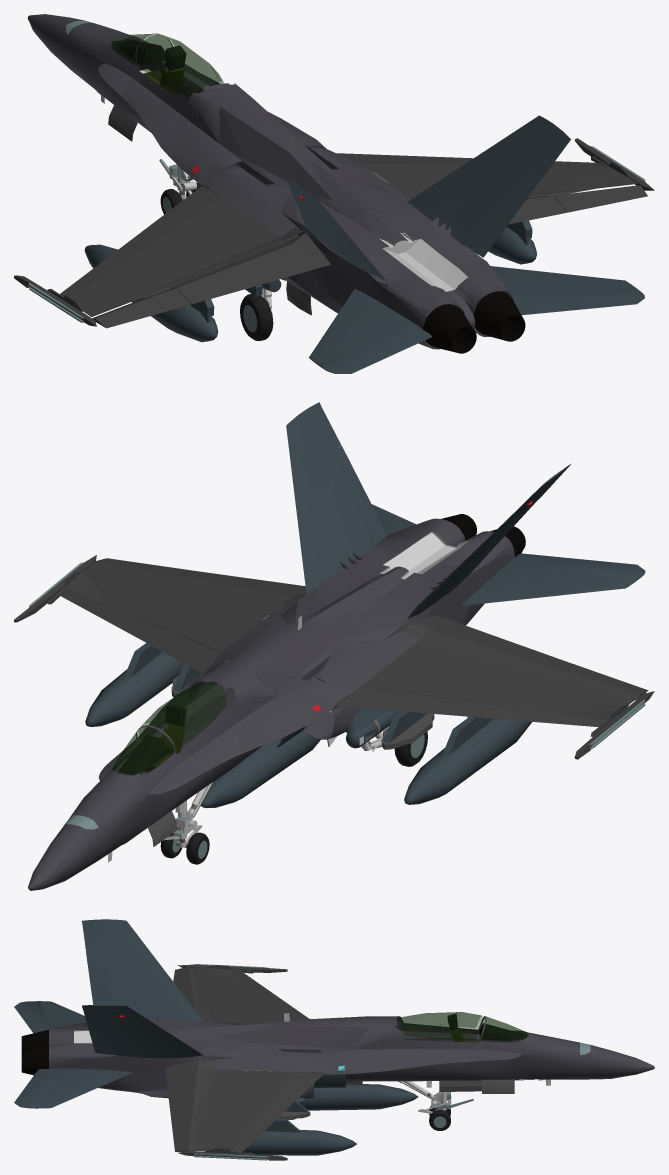
The model's file is Hornet.obj.
The picture shows the model from 3 angles, top to bottom: view 1: azimuth 30°, elevation 25°; view 2: azimuth 150°, elevation 25°; view 3: azimuth 270°, elevation 25°; orthographic projection. The views are drawn at different scales.
Parts seen in each view (by area): view 1: HornFuse, HornWing, HornEsta, HornRudd, HornLfla, HornNozz, HornCono, HornLfue, HornLfl2, HornFus2, HornLRud, HornRrud (+13 smaller); view 2: HornFuse, HornWing, HornLfue, HornRudd, HornEsta, HornLfl2, HornRfl3, HornCono, HornLfla, HornWsup, HornLRud, HornCon2 (+12 smaller); view 3: HornFuse, HornWing, HornRudd, HornLfue, HornEsta, HornRRud, HornCono, HornRfla, HornRfl3, HornNozz, HornEvt, HornLrud (+10 smaller).
Part boxes in pixels (x1,y1,x2,y2): HornFuse: (27,14,513,349); HornWing: (14,138,654,326); HornEsta: (309,266,644,373); HornRudd: (319,115,570,245); HornLfla: (170,233,330,304); HornNozz: (423,292,525,353); HornCono: (138,34,223,96); HornLfue: (84,185,536,342); HornLfl2: (60,185,220,297); HornFus2: (114,69,468,291); HornLRud: (286,177,367,272); HornRrud: (464,170,541,257); HornFuse: (28,518,514,890); HornWing: (14,555,654,759); HornLfue: (85,652,531,808); HornRudd: (286,402,533,618); HornEsta: (371,504,645,605); HornLfl2: (335,686,606,726); HornRfl3: (60,588,221,673); HornCono: (139,682,226,748); HornLfla: (411,616,567,671); HornWsup: (124,620,493,754); HornLRud: (408,463,571,618); HornCon2: (112,727,173,775); HornFuse: (49,1015,654,1099); HornWing: (177,964,293,1160); HornRudd: (82,919,203,1021); HornLfue: (203,1084,418,1155); HornEsta: (14,1001,132,1108); HornRRud: (82,1004,203,1057); HornCono: (399,1012,482,1040); HornRfla: (165,1058,204,1119); HornRfl3: (231,1072,323,1152); HornNozz: (21,1029,48,1075); HornEvt: (398,1079,514,1099); HornLrud: (86,953,113,1004).
Size of the model in its own units: 70.5 by 28.41 by 101.
